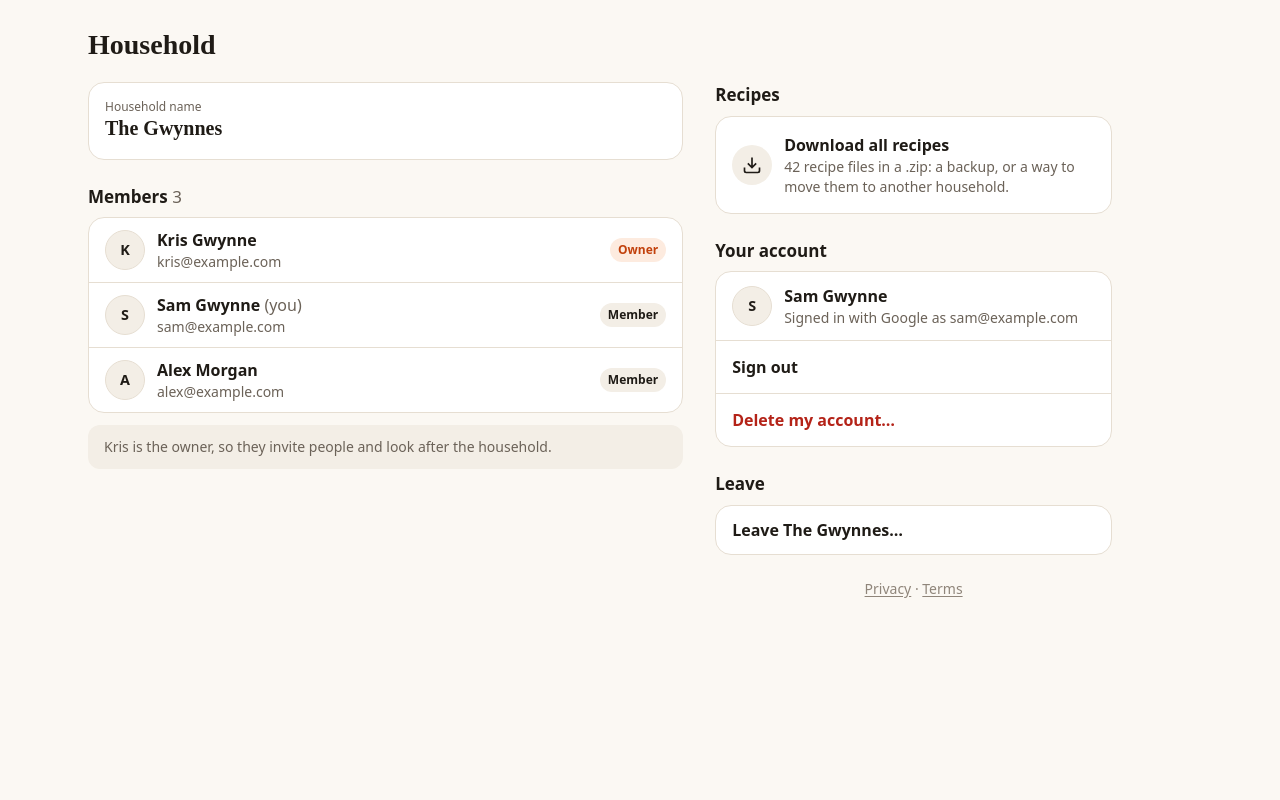
Test: Delete my account (design K, L) › says so when it fails
What coordinates should you click on to do the following:
click the button "Delete my account…"
I would click on:
 (814, 420)
Its box is [716,394,1111,446].
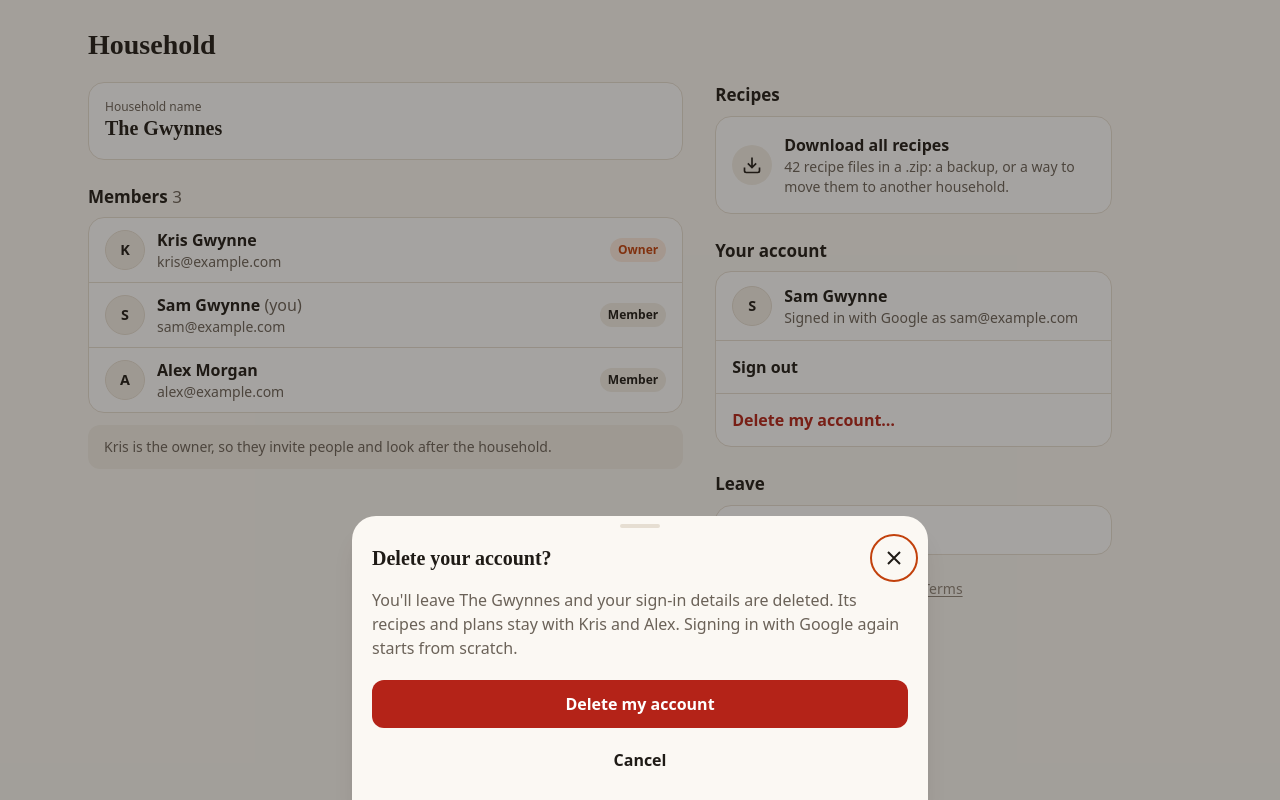
What coordinates should you click on to do the following:
click the button "Delete my account"
I would click on:
 (640, 704)
Its box is [372,680,908,728].
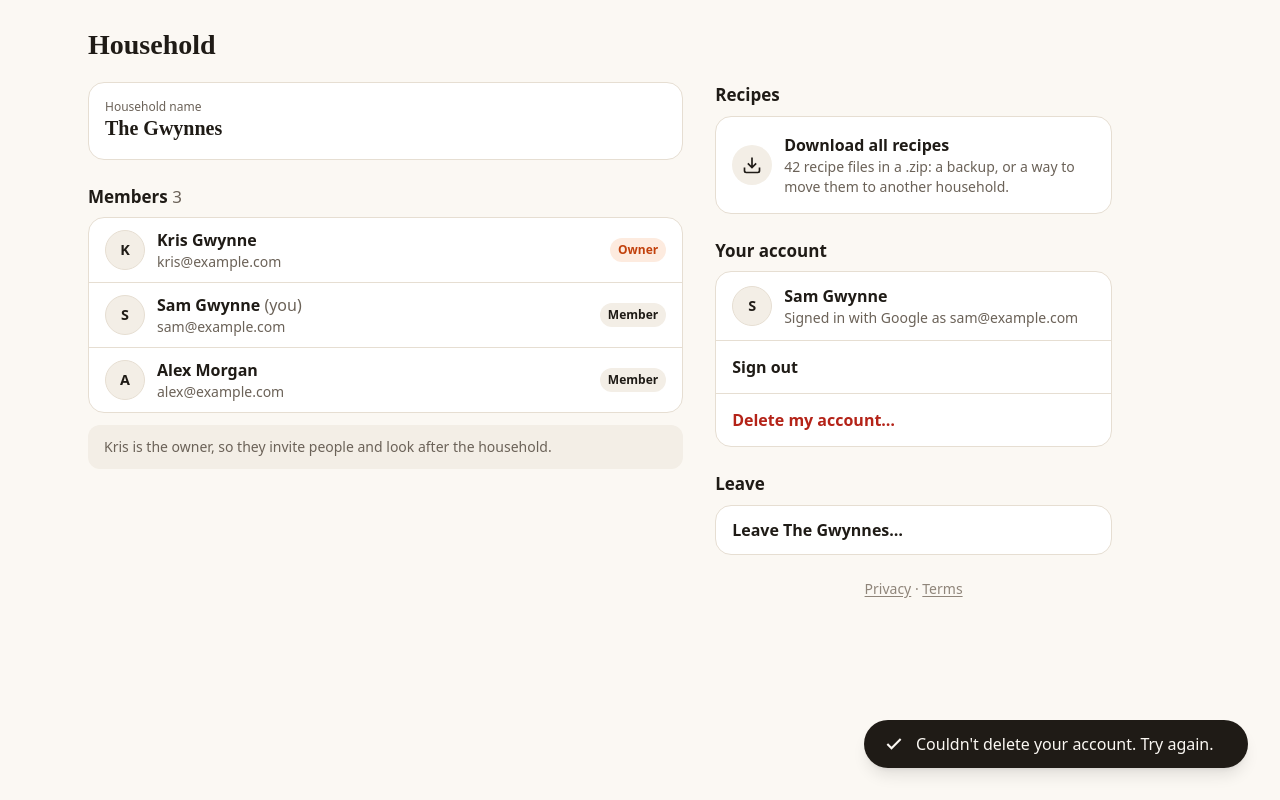
Result: the dialog is gone
Result: the message reads "Couldn't delete your account. Try again." at [916,733,1214,755]
